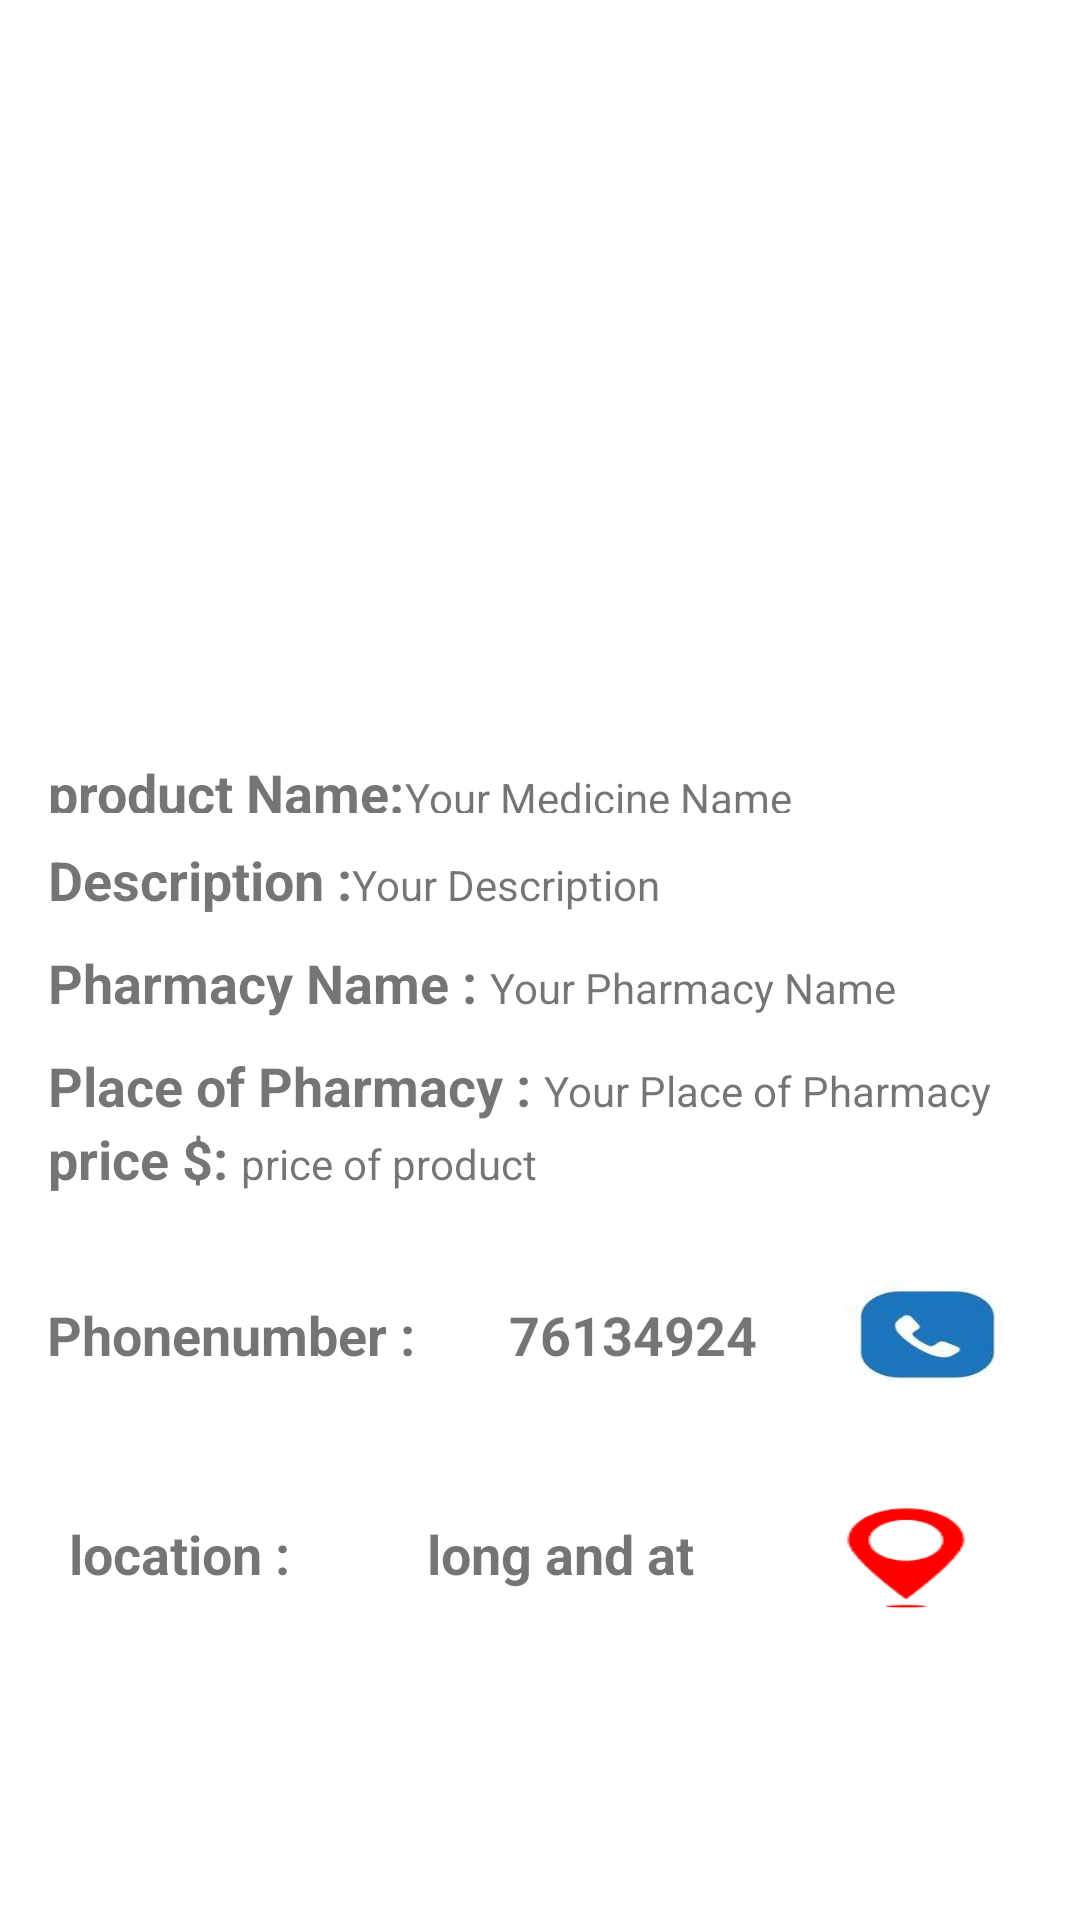

Screen size 1080w x 1920h. Icon name, then its center in pixels as [x,y]:
location: [906,1558]
